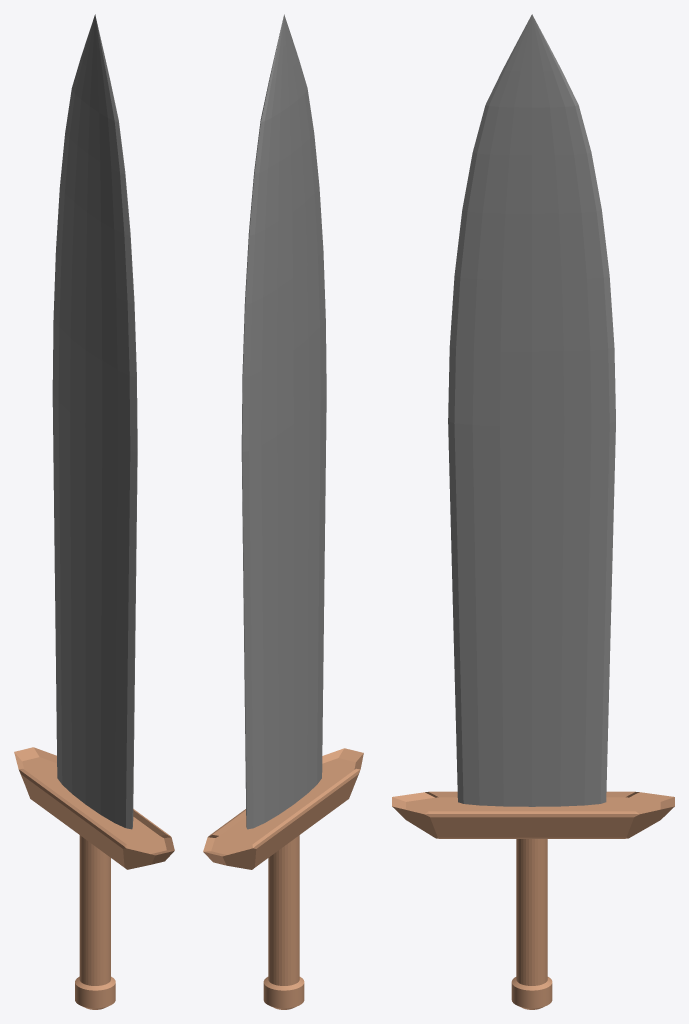
The model's file is sword.fbx.
3 renders of one model, left to right at view 1: azimuth 30°, elevation 25°; view 2: azimuth 150°, elevation 25°; view 3: azimuth 270°, elevation 25°, orthographic.
Parts seen in each view (by area): view 1: Blade, Handle; view 2: Blade, Handle; view 3: Blade, Handle.
Part boxes in pixels (x1,y1,x2,y2): Blade: (52, 14, 137, 829); Handle: (14, 747, 174, 1009); Blade: (241, 14, 326, 829); Handle: (203, 748, 363, 1009); Blade: (448, 14, 615, 806); Handle: (392, 791, 674, 1009).
Bounding box in the file's own units: 192 × 3904 × 1010.
